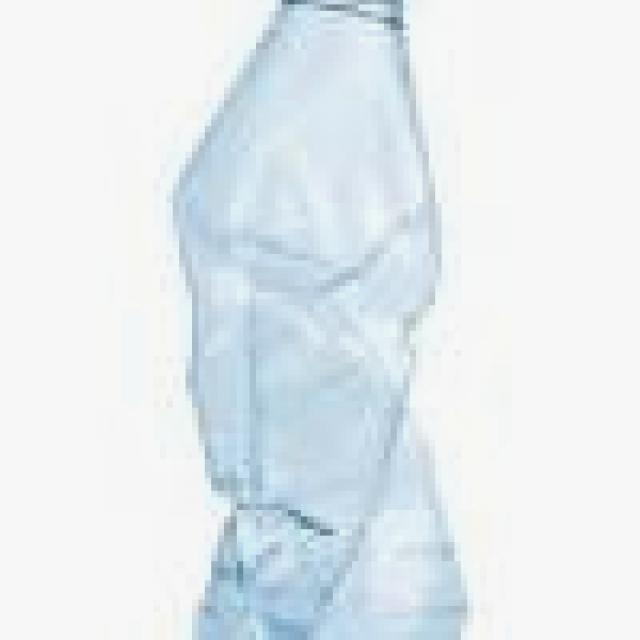BIODEGRADABLE: (142, 1, 477, 640)
